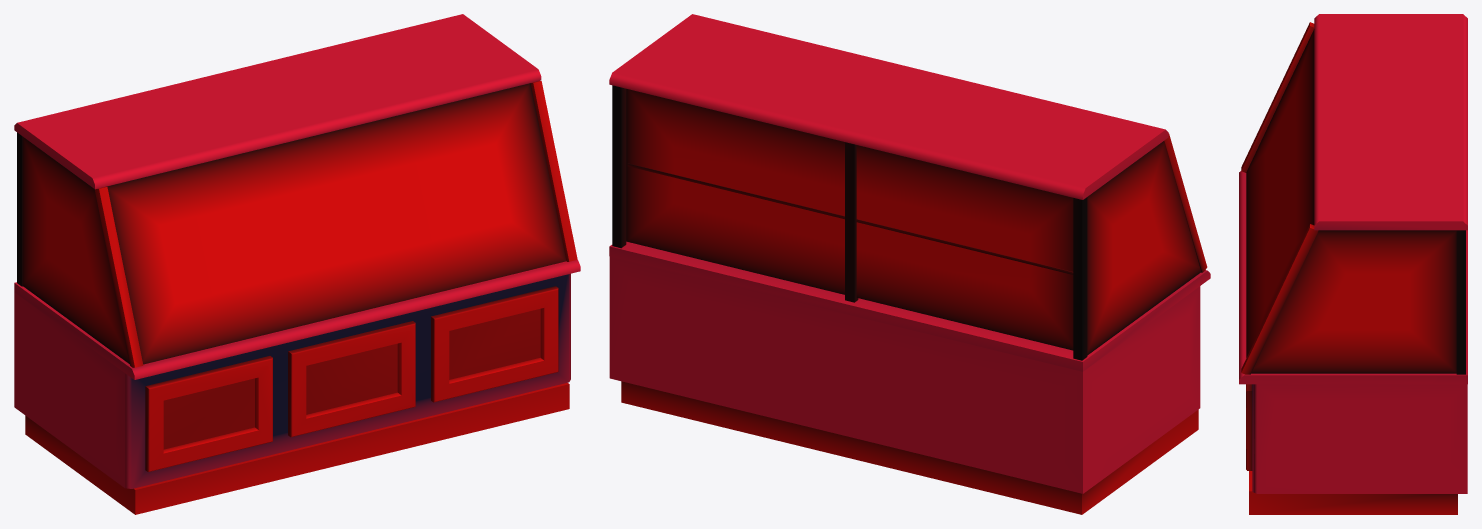
The model's file is CI_Bakery_DisplayCounter_Glass.glb.
The picture shows the model from 3 angles, left to right: view 1: azimuth 30°, elevation 25°; view 2: azimuth 150°, elevation 25°; view 3: azimuth 270°, elevation 25°; orthographic projection. The views are drawn at different scales.
Parts seen in each view (by area): view 1: CI_Bakery_DisplayCounter_Glass; view 2: CI_Bakery_DisplayCounter_Glass; view 3: CI_Bakery_DisplayCounter_Glass.
Part boxes in pixels (x1,y1,x2,y2): CI_Bakery_DisplayCounter_Glass: [14, 14, 580, 514]; CI_Bakery_DisplayCounter_Glass: [609, 14, 1210, 514]; CI_Bakery_DisplayCounter_Glass: [1239, 14, 1467, 514].
Bounding box in the file's own units: 1.5 × 1 × 0.7.
